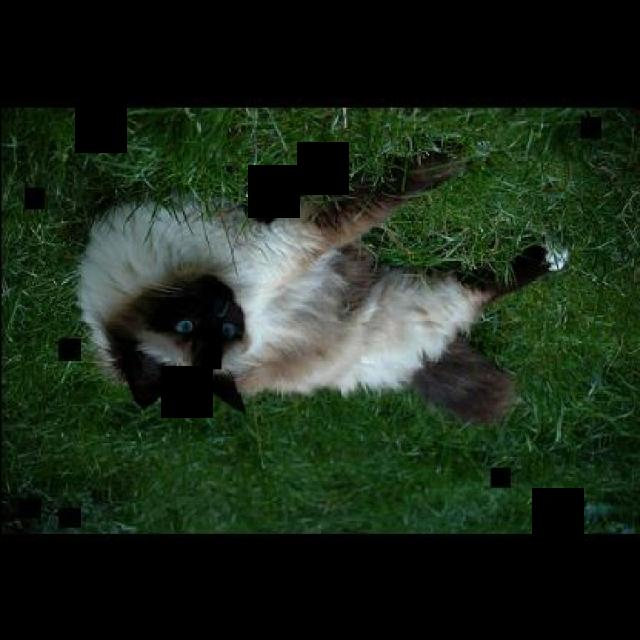unauthorized: (71, 146, 569, 426)
